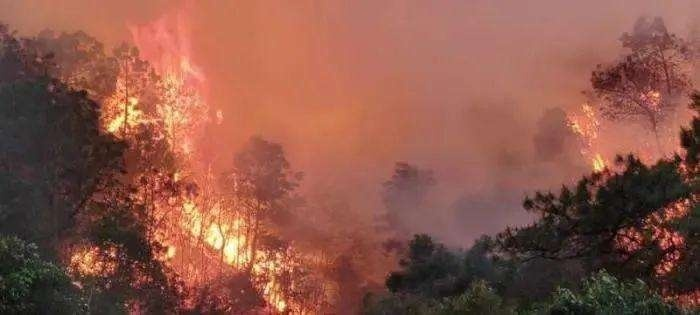fire: (63, 39, 303, 308), (563, 101, 609, 177)
